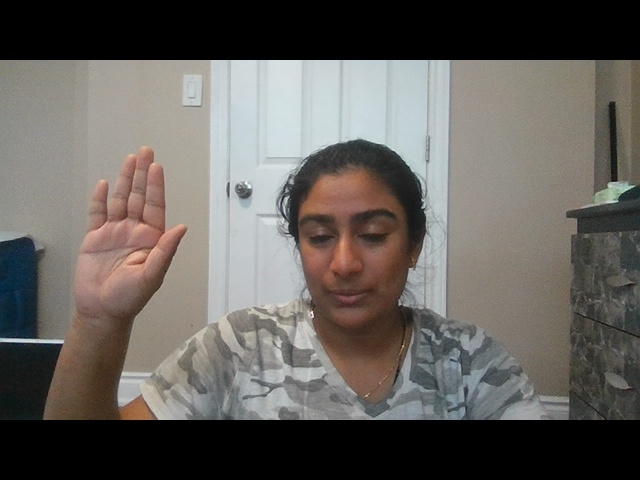hello: (70, 141, 188, 328)
